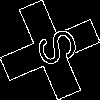S: (25, 25, 81, 74)
